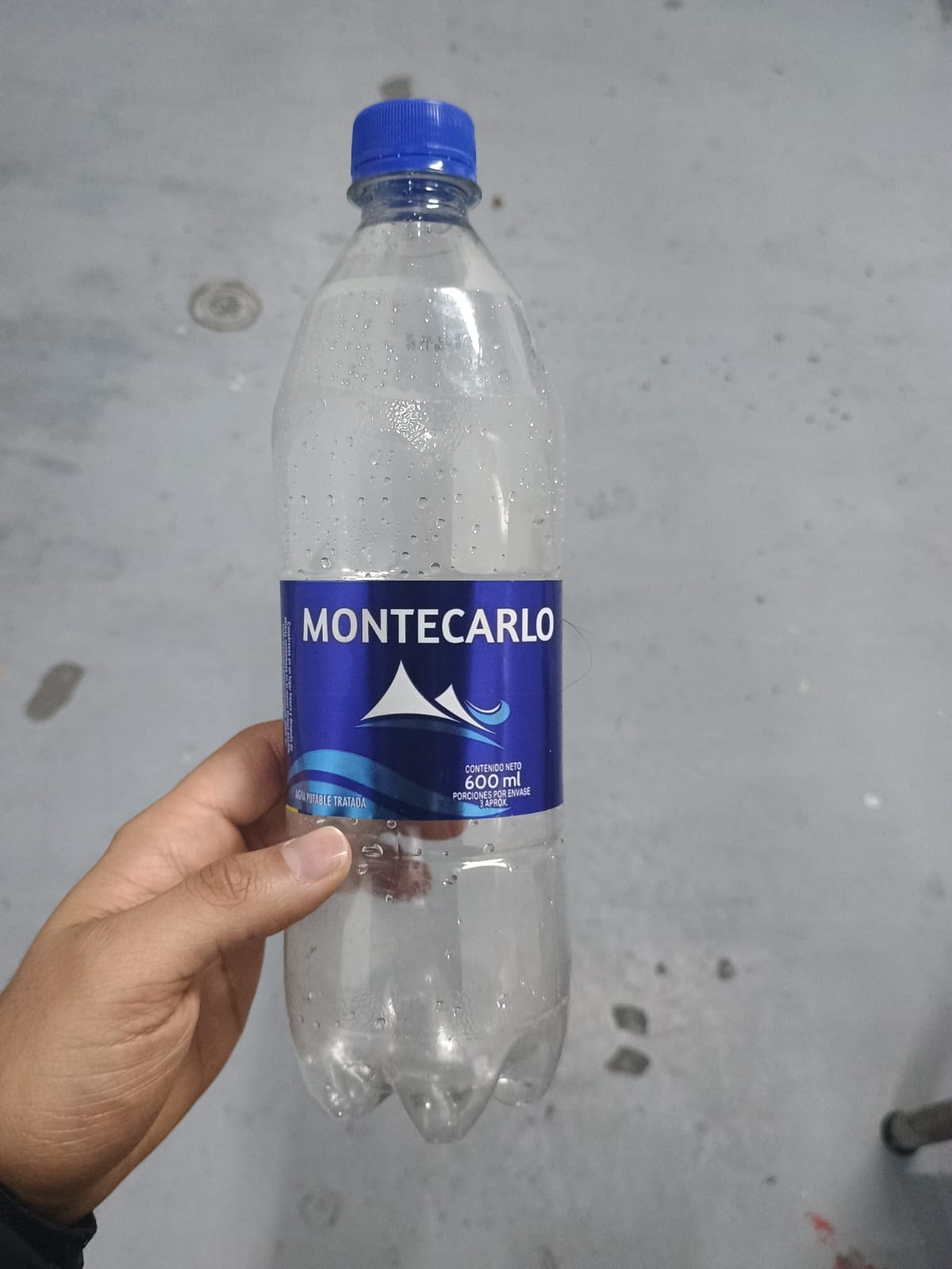Plastico: (266, 101, 572, 1145)
